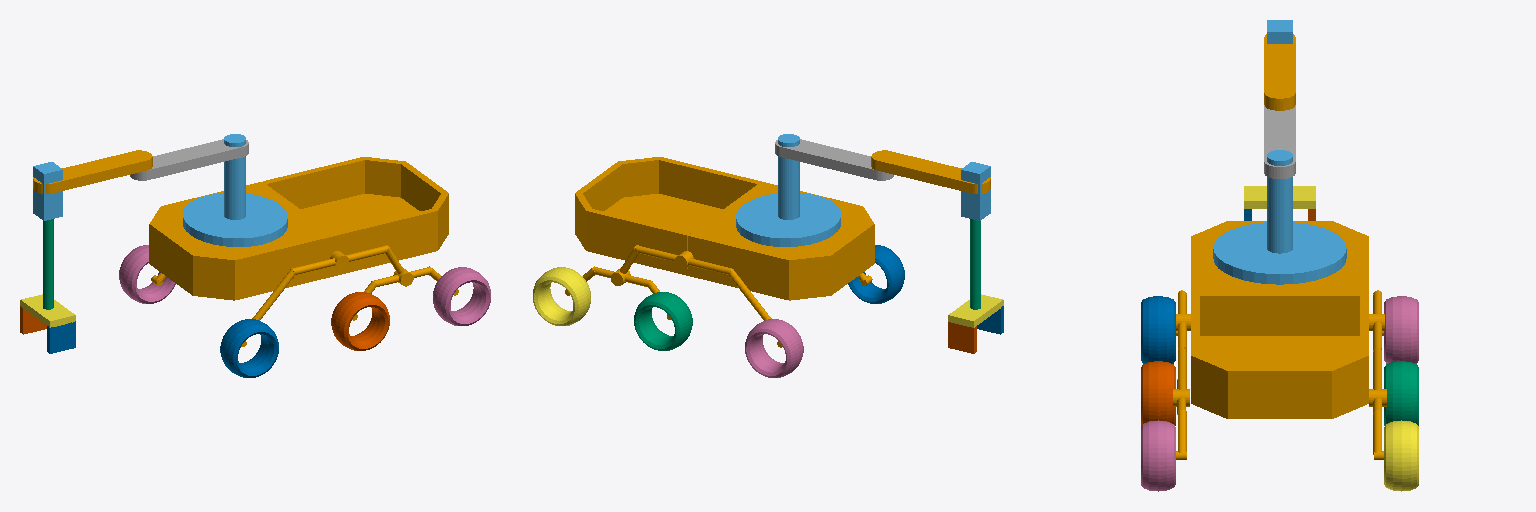
URDF robot description (robot_Practica2):
<robot name="robot_Practica2" version="1.0">
  <joint name="base_gripper_link_joint" type="fixed">
    <origin rpy="0.00000 0.00000 0.00000" xyz="-0.51563 0.00006 0.72658"/>
    <parent link="base_link"/>
    <child link="base_gripper_link"/>
  </joint>
  <joint name="arm_1_link_joint" type="revolute">
    <origin rpy="0 0 0" xyz="0 0 0.74424"/>
    <parent link="base_gripper_link"/>
    <child link="arm_1_link"/>
    <axis xyz="0 0 1"/>
    <limit lower="-3.14" upper="3.14" effort="50" velocity="2"/>
  </joint>
  <joint name="wheelA_3_link_joint" type="continuous">
    <limit effort="0.00000" velocity="0.00000"/>
    <origin rpy="1.57080 0.00000 0.00000" xyz="2.23201 1.32843 -0.83009"/>
    <parent link="base_link"/>
    <child link="wheelA_3_link"/>
    <axis xyz="0.00000 0.00000 1.00000"/>
  </joint>
  <joint name="wheelB_1_link_joint" type="continuous">
    <limit effort="0.00000" velocity="0.00000"/>
    <origin rpy="1.57080 0.00000 0.00000" xyz="-1.07987 -1.32831 -0.83009"/>
    <parent link="base_link"/>
    <child link="wheelB_1_link"/>
    <axis xyz="0.00000 0.00000 1.00000"/>
  </joint>
  <joint name="wheelB_2_link_joint" type="continuous">
    <limit effort="0.00000" velocity="0.00000"/>
    <origin rpy="1.57080 0.00000 0.00000" xyz="0.65003 -1.32832 -0.83009"/>
    <parent link="base_link"/>
    <child link="wheelB_2_link"/>
    <axis xyz="0.00000 0.00000 1.00000"/>
  </joint>
  <joint name="wheelB_3_link_joint" type="continuous">
    <limit effort="0.00000" velocity="0.00000"/>
    <origin rpy="1.57080 0.00000 0.00000" xyz="2.23201 -1.32832 -0.83009"/>
    <parent link="base_link"/>
    <child link="wheelB_3_link"/>
    <axis xyz="0.00000 0.00000 1.00000"/>
  </joint>
  <joint name="arm_2_link_joint" type="revolute">
    <origin rpy="0 0 0" xyz="-1.46 0 0.15"/>
    <parent link="arm_1_link"/>
    <child link="arm_2_link"/>
    <axis xyz="0 0 1"/>
    <limit lower="-2.356" upper="2.356" effort="50" velocity="2"/>
  </joint>
  <joint name="arm_3_link_joint" type="revolute">
    <origin rpy="0 0 0" xyz="-1.46 0 -0.11"/>
    <parent link="arm_2_link"/>
    <child link="arm_3_link"/>
    <axis xyz="0 0 1"/>
    <limit lower="-3.14" upper="3.14" effort="50" velocity="2"/>
  </joint>
  <joint name="arm_4_link_joint" type="prismatic">
    <origin rpy="0 0 0" xyz="0 0 -1.05"/>
    <parent link="arm_3_link"/>
    <child link="arm_4_link"/>
    <axis xyz="0 0 1"/>
    <limit lower="-0.38" upper="1.5" effort="50" velocity="1.0"/>
  </joint>
  <joint name="base_endEffector_link_joint" type="fixed">
    <origin rpy="0 0 0" xyz="0 0 -0.73"/>
    <parent link="arm_4_link"/>
    <child link="base_endEffector_link"/>
  </joint>
  <joint name="gripper_1_link_joint" type="prismatic">
    <origin rpy="-1.5708 0 0" xyz="0 -0.36 -0.24"/>
    <parent link="base_endEffector_link"/>
    <child link="gripper_1_link"/>
    <axis xyz="0 0 1"/>
    <limit lower="0.0" upper="0.25" effort="20" velocity="1.0"/>
  </joint>
  <joint name="gripper_2_link_joint" type="prismatic">
    <origin rpy="1.5708 0 0" xyz="0 0.36 -0.24"/>
    <parent link="base_endEffector_link"/>
    <child link="gripper_2_link"/>
    <axis xyz="0 0 1"/>
    <limit lower="0.0" upper="0.25" effort="20" velocity="1.0"/>
  </joint>
  <joint name="wheelA_1_link_joint" type="continuous">
    <limit effort="0.00000" velocity="0.00000"/>
    <origin rpy="1.57080 0.00000 0.00000" xyz="-1.07987 1.32843 -0.83009"/>
    <parent link="base_link"/>
    <child link="wheelA_1_link"/>
    <axis xyz="0.00000 0.00000 1.00000"/>
  </joint>
  <joint name="wheelA_2_link_joint" type="continuous">
    <limit effort="0.00000" velocity="0.00000"/>
    <origin rpy="1.57080 0.00000 0.00000" xyz="0.65003 1.32843 -0.83009"/>
    <parent link="base_link"/>
    <child link="wheelA_2_link"/>
    <axis xyz="0.00000 0.00000 1.00000"/>
  </joint>
  <link name="base_link">
    <!-- SUELO CAJA -->
    <collision name="floor_right">
      <origin xyz="1.35 0 -0.15" rpy="0 0 0"/>
      <geometry>
        <box size="1.9 1.9 0.05"/>
      </geometry>
    </collision>

    <!-- PARED DERECHA -->
    <collision name="wall_right">
      <origin xyz="2.30 0 0.10" rpy="0 0 0"/>
      <geometry>
        <box size="0.05 1.9 0.6"/>
      </geometry>
    </collision>

    <!-- PARED CENTRAL -->
    <collision name="wall_middle">
      <origin xyz="0.40 0 0.10" rpy="0 0 0"/>
      <geometry>
        <box size="0.05 1.9 0.6"/>
      </geometry>
    </collision>

    <!-- PARED TRASERA -->
    <collision name="wall_back">
      <origin xyz="1.35 -0.95 0.10" rpy="0 0 0"/>
      <geometry>
        <box size="1.9 0.05 0.6"/>
      </geometry>
    </collision>

    <!-- PARED FRONTAL -->
    <collision name="wall_front">
      <origin xyz="1.35 0.95 0.10" rpy="0 0 0"/>
      <geometry>
        <box size="1.9 0.05 0.6"/>
      </geometry>
    </collision>

    <!-- PLATAFORMA -->
    <collision name="platform_left">
      <origin xyz="-0.60 0 0.10" rpy="0 0 0"/>
      <geometry>
        <box size="2.4 2.2 0.05"/>
      </geometry>
    </collision>
    <inertial>
      <inertia ixx="41.28289" ixy="-0.00802" ixz="9.08471" iyy="106.15301" iyz="0.02896" izz="122.29248"/>
      <origin rpy="0.00000 0.00000 0.00000" xyz="-0.00000 -0.00000 -0.00000"/>
      <mass value="80.00000"/>
    </inertial>
    <visual name="base">
      <material name="None"/>
      <origin rpy="0.00000 0.00000 0.00000" xyz="0.00000 0.00000 -0.00000"/>
      <geometry>
        <mesh filename="../meshes/dae/Cube.005.dae" scale="2.00000 1.00000 0.05000"/>
      </geometry>
    </visual>
  </link>
  <link name="base_gripper_link">
    <collision name="base_gripper_collision">
      <origin rpy="0.00000 0.00000 0.00000" xyz="0.00000 -0.00000 0.00000"/>
      <geometry>
        <mesh filename="../meshes/dae/Cylinder.dae" scale="0.70000 0.75000 0.07647"/>
      </geometry>
    </collision>
    <inertial>
      <inertia ixx="3.73641" ixy="-0.00000" ixz="-0.00000" iyy="3.48927" iyz="0.00000" izz="3.61756"/>
      <origin rpy="0.00000 0.00000 0.00000" xyz="-0.00000 -0.00000 -0.17512"/>
      <mass value="20.00000"/>
    </inertial>
    <visual name="base_gripper">
      <material name="None"/>
      <origin rpy="0.00000 0.00000 0.00000" xyz="-0.00000 -0.00000 0.00000"/>
      <geometry>
        <mesh filename="../meshes/dae/Cylinder.dae" scale="0.70000 0.75000 0.07647"/>
      </geometry>
    </visual>
  </link>
  <link name="wheelA_2_link">
    <collision name="wheelA_2_collision">
      <origin rpy="0.00000 0.00000 0.00000" xyz="-0.00000 0.00000 -0.04000"/>
      <geometry>
        <mesh filename="../meshes/dae/Torus.004.dae" scale="0.32000 0.32000 0.80000"/>
      </geometry>
    </collision>
    <inertial>
      <inertia ixx="0.22705" ixy="0.00000" ixz="0.00000" iyy="0.37534" iyz="-0.00000" izz="0.22705"/>
      <origin rpy="0.00000 0.00000 0.00000" xyz="-0.00000 0.00000 -0.04000"/>
      <mass value="5.00000"/>
    </inertial>
    <visual name="wheelA_2">
      <material name="None"/>
      <origin rpy="0.00000 0.00000 0.00000" xyz="-0.00000 0.00000 -0.04000"/>
      <geometry>
        <mesh filename="../meshes/dae/Torus.004.dae" scale="0.32000 0.32000 0.80000"/>
      </geometry>
    </visual>
  </link>
  <link name="wheelA_3_link">
    <collision name="wheelA_3_collision">
      <origin rpy="0.00000 0.00000 0.00000" xyz="0.00000 0.00000 -0.04000"/>
      <geometry>
        <mesh filename="../meshes/dae/Torus.003.dae" scale="0.32000 0.32000 0.80000"/>
      </geometry>
    </collision>
    <inertial>
      <inertia ixx="0.22705" ixy="0.00000" ixz="0.00000" iyy="0.37534" iyz="-0.00000" izz="0.22705"/>
      <origin rpy="0.00000 0.00000 0.00000" xyz="0.00000 0.00000 -0.04000"/>
      <mass value="5.00000"/>
    </inertial>
    <visual name="wheelA_3">
      <material name="None"/>
      <origin rpy="0.00000 0.00000 0.00000" xyz="0.00000 0.00000 -0.04000"/>
      <geometry>
        <mesh filename="../meshes/dae/Torus.003.dae" scale="0.32000 0.32000 0.80000"/>
      </geometry>
    </visual>
  </link>
  <link name="wheelB_1_link">
    <collision name="wheelB_1_collision">
      <origin rpy="0.00000 0.00000 0.00000" xyz="0.00000 0.00000 0.04000"/>
      <geometry>
        <mesh filename="../meshes/dae/Torus.dae" scale="0.32000 0.32000 0.80000"/>
      </geometry>
    </collision>
    <visual name="wheelB_1">
      <material name="None"/>
      <origin rpy="0.00000 0.00000 0.00000" xyz="0.00000 -0.00000 0.04000"/>
      <geometry>
        <mesh filename="../meshes/dae/Torus.dae" scale="0.32000 0.32000 0.80000"/>
      </geometry>
    </visual>
    <inertial>
      <origin xyz="0 0 0" rpy="0 0 0"/>
      <mass value="2.0"/>
      <inertia ixx="0.05" ixy="0.0" ixz="0.0"
              iyy="0.05" iyz="0.0"
              izz="0.05"/>
    </inertial>
  </link>
  <link name="wheelB_2_link">
    <collision name="wheelB_2_collision">
      <origin rpy="0.00000 0.00000 0.00000" xyz="-0.00000 0.00000 0.04000"/>
      <geometry>
        <mesh filename="../meshes/dae/Torus.001.dae" scale="0.32000 0.32000 0.80000"/>
      </geometry>
    </collision>
    <inertial>
      <inertia ixx="0.22705" ixy="0.00000" ixz="0.00000" iyy="0.37534" iyz="-0.00000" izz="0.22705"/>
      <origin rpy="0.00000 0.00000 0.00000" xyz="-0.00000 -0.00000 0.04000"/>
      <mass value="5.00000"/>
    </inertial>
    <visual name="wheelB_2">
      <material name="None"/>
      <origin rpy="0.00000 0.00000 0.00000" xyz="-0.00000 -0.00000 0.04000"/>
      <geometry>
        <mesh filename="../meshes/dae/Torus.001.dae" scale="0.32000 0.32000 0.80000"/>
      </geometry>
    </visual>
  </link>
  <link name="wheelB_3_link">
    <collision name="wheelB_3_collision">
      <origin rpy="0.00000 0.00000 0.00000" xyz="0.00000 0.00000 0.04000"/>
      <geometry>
        <mesh filename="../meshes/dae/Torus.002.dae" scale="0.32000 0.32000 0.80000"/>
      </geometry>
    </collision>
    <inertial>
      <inertia ixx="0.22705" ixy="0.00000" ixz="0.00000" iyy="0.37534" iyz="-0.00000" izz="0.22705"/>
      <origin rpy="0.00000 0.00000 0.00000" xyz="0.00000 -0.00000 0.04000"/>
      <mass value="5.00000"/>
    </inertial>
    <visual name="wheelB_3">
      <material name="None"/>
      <origin rpy="0.00000 0.00000 0.00000" xyz="0.00000 -0.00000 0.04000"/>
      <geometry>
        <mesh filename="../meshes/dae/Torus.002.dae" scale="0.32000 0.32000 0.80000"/>
      </geometry>
    </visual>
  </link>
  <link name="arm_1_link">
    <collision name="arm_1_collision">
      <origin rpy="0.00000 0.00000 0.00000" xyz="-0.72000 0.00000 0.01000"/>
      <geometry>
        <mesh filename="../meshes/dae/Cylinder.002.dae" scale="0.15000 0.17500 0.07500"/>
      </geometry>
    </collision>
    <visual name="arm_1">
      <material name="None"/>
      <origin rpy="0.00000 0.00000 0.00000" xyz="-0.72000 0.00000 0.01000"/>
      <geometry>
        <mesh filename="../meshes/dae/Cylinder.002.dae" scale="0.15000 0.17500 0.07500"/>
      </geometry>
    </visual>
    <inertial>
      <origin xyz="0 0 0" rpy="0 0 0"/>
      <mass value="5.0"/>
      <inertia ixx="0.1" ixy="0.0" ixz="0.0"
                iyy="0.1" iyz="0.0"
                izz="0.1"/>
    </inertial>
  </link>
  <link name="arm_2_link">
    <collision name="arm_2_collision">
      <origin rpy="0.00000 0.00000 0.00000" xyz="-0.76000 0.00000 0.01000"/>
      <geometry>
        <mesh filename="../meshes/dae/Cylinder.004.dae" scale="0.15000 0.17500 0.07500"/>
      </geometry>
    </collision>
    <visual name="arm_2">
      <material name="None"/>
      <origin rpy="0.00000 0.00000 0.00000" xyz="-0.76000 0.00000 0.01000"/>
      <geometry>
        <mesh filename="../meshes/dae/Cylinder.004.dae" scale="0.15000 0.17500 0.07500"/>
      </geometry>
    </visual>
    <inertial>
      <origin xyz="0 0 0" rpy="0 0 0"/>
      <mass value="5.0"/>
      <inertia ixx="0.1" ixy="0.0" ixz="0.0"
              iyy="0.1" iyz="0.0"
              izz="0.1"/>
    </inertial>
  </link>
  <link name="arm_3_link">
    <collision name="arm_3_collision">
      <origin rpy="0.00000 0.00000 0.00000" xyz="0.00000 0.00000 0.00000"/>
      <geometry>
        <mesh filename="../meshes/dae/Cylinder.001.dae" scale="0.15000 0.15000 0.35000"/>
      </geometry>
    </collision>
    <inertial>
      <inertia ixx="0.16965" ixy="0.00000" ixz="0.00000" iyy="0.16965" iyz="0.00000" izz="0.05265"/>
      <origin rpy="0.00000 0.00000 0.00000" xyz="0.00000 0.00000 0.00000"/>
      <mass value="3.51000"/>
    </inertial>
    <visual name="arm_3">
      <material name="None"/>
      <origin rpy="0.00000 0.00000 0.00000" xyz="0.00000 0.00000 0.00000"/>
      <geometry>
        <box size="0.30000 0.30000 0.70000"/>
      </geometry>
    </visual>
  </link>
  <link name="arm_4_link">
    <collision name="arm_4_collision">
      <origin rpy="0.00000 0.00000 0.00000" xyz="0.00000 0.00000 0.00000"/>
      <geometry>
        <mesh filename="../meshes/dae/Cylinder.003.dae" scale="0.07500 0.07500 0.75000"/>
      </geometry>
    </collision>
    <inertial>
      <inertia ixx="0.18891" ixy="0.00000" ixz="0.00000" iyy="0.18891" iyz="0.00000" izz="0.00281"/>
      <origin rpy="0.00000 0.00000 0.00000" xyz="0.00000 0.00000 -0.00000"/>
      <mass value="1.00000"/>
    </inertial>
    <visual name="arm_4">
      <material name="None"/>
      <origin rpy="0.00000 0.00000 0.00000" xyz="0.00000 0.00000 -0.00000"/>
      <geometry>
        <cylinder radius="0.07500" length="1.50000"/>
      </geometry>
    </visual>
  </link>
  <link name="base_endEffector_link">
    <collision name="base_endEffector_collision">
      <origin rpy="0.00000 0.00000 0.00000" xyz="0.00000 0.00000 -0.00000"/>
      <geometry>
        <mesh filename="../meshes/dae/Cube.001.dae" scale="0.20000 0.40000 0.05000"/>
      </geometry>
    </collision>
    <inertial>
      <inertia ixx="0.05417" ixy="0.00000" ixz="0.00000" iyy="0.01417" iyz="0.00000" izz="0.06667"/>
      <origin rpy="0.00000 0.00000 0.00000" xyz="0.00000 0.00000 0.00000"/>
      <mass value="1.00000"/>
    </inertial>
    <visual name="base_endEffector">
      <material name="None"/>
      <origin rpy="0.00000 0.00000 0.00000" xyz="0.00000 0.00000 0.00000"/>
      <geometry>
        <box size="0.40000 0.80000 0.10000"/>
      </geometry>
    </visual>
  </link>
  <link name="gripper_1_link">
    <collision name="gripper_1_collision">
      <origin rpy="1.57080 0.00000 0.00000" xyz="0.00000 0.00000 -0.00000"/>
      <geometry>
        <mesh filename="../meshes/dae/Cube.008.dae" scale="0.20000 0.04000 0.20000"/>
      </geometry>
    </collision>
    <inertial>
      <inertia ixx="0.01387" ixy="0.00000" ixz="0.00000" iyy="0.02667" iyz="-0.00000" izz="0.01387"/>
      <origin rpy="0.00000 0.00000 0.00000" xyz="0.00000 0.00000 -0.00000"/>
      <mass value="1.00000"/>
    </inertial>
    <visual name="gripper_1">
      <material name="None"/>
      <origin rpy="1.57080 0.00000 0.00000" xyz="0.00000 0.00000 -0.00000"/>
      <geometry>
        <box size="0.40000 0.08000 0.40000"/>
      </geometry>
    </visual>
  </link>
  <link name="gripper_2_link">
    <collision name="gripper_2_collision">
      <origin rpy="-1.57080 0.00000 0.00000" xyz="0.00000 -0.00000 -0.00000"/>
      <geometry>
        <mesh filename="../meshes/dae/Cube.009.dae" scale="0.20000 0.04000 0.20000"/>
      </geometry>
    </collision>
    <inertial>
      <inertia ixx="0.01387" ixy="0.00000" ixz="0.00000" iyy="0.02667" iyz="0.00000" izz="0.01387"/>
      <origin rpy="0.00000 0.00000 0.00000" xyz="0.00000 -0.00000 -0.00000"/>
      <mass value="1.00000"/>
    </inertial>
    <visual name="gripper_2">
      <material name="None"/>
      <origin rpy="-1.57080 0.00000 0.00000" xyz="0.00000 -0.00000 -0.00000"/>
      <geometry>
        <box size="0.40000 0.08000 0.40000"/>
      </geometry>
    </visual>
  </link>
  <link name="wheelA_1_link">
    <collision name="wheelA_1_collision">
      <origin rpy="0.00000 0.00000 0.00000" xyz="0.00000 0.00000 -0.04000"/>
      <geometry>
        <mesh filename="../meshes/dae/Torus.005.dae" scale="0.32000 0.32000 0.80000"/>
      </geometry>
    </collision>
    <inertial>
      <inertia ixx="0.22705" ixy="0.00000" ixz="0.00000" iyy="0.37534" iyz="-0.00000" izz="0.22705"/>
      <origin rpy="0.00000 0.00000 0.00000" xyz="0.00000 0.00000 -0.04000"/>
      <mass value="5.00000"/>
    </inertial>
    <visual name="wheelA_1">
      <material name="None"/>
      <origin rpy="0.00000 0.00000 0.00000" xyz="0.00000 0.00000 -0.04000"/>
      <geometry>
        <mesh filename="../meshes/dae/Torus.005.dae" scale="0.32000 0.32000 0.80000"/>
      </geometry>
    </visual>
  </link>
</robot>

--- Facts derived from the render (not from the file) ---
Views: 3 orthographic renders of the robot side by side, from view 1: azimuth 30°, elevation 25°; view 2: azimuth 150°, elevation 25°; view 3: azimuth 270°, elevation 25°.
Model robot_Practica2 with 15 links and 14 joints (3 revolute, 6 continuous, 3 prismatic, 2 fixed), rooted at base_link, posed all joints at 0.
Visible links, largest first — view 1: base_link, base_gripper_link, arm_2_link, wheelB_2_link, wheelB_3_link, wheelB_1_link, arm_1_link, wheelA_1_link, arm_3_link, arm_4_link, base_endEffector_link, gripper_1_link; view 2: base_link, base_gripper_link, arm_2_link, wheelA_2_link, wheelA_3_link, wheelA_1_link, arm_1_link, wheelB_1_link, arm_3_link, arm_4_link, base_endEffector_link, gripper_2_link; view 3: base_link, base_gripper_link, wheelA_3_link, wheelB_3_link, wheelB_1_link, wheelA_1_link, arm_2_link, wheelA_2_link, wheelB_2_link, arm_1_link, base_endEffector_link, arm_3_link.
Boxes of the visible links, box(x1,y1,x2,y2) form: base_link: box(149, 157, 458, 346); base_gripper_link: box(183, 134, 287, 246); arm_2_link: box(33, 150, 152, 193); wheelB_2_link: box(331, 292, 389, 350); wheelB_3_link: box(433, 267, 490, 325); wheelB_1_link: box(220, 319, 278, 377); arm_1_link: box(130, 139, 248, 180); wheelA_1_link: box(119, 245, 175, 303); arm_3_link: box(33, 162, 62, 220); arm_4_link: box(43, 219, 53, 309); base_endEffector_link: box(20, 294, 75, 327); gripper_1_link: box(47, 321, 75, 353); base_link: box(565, 157, 874, 347); base_gripper_link: box(736, 134, 840, 246); arm_2_link: box(871, 150, 990, 193); wheelA_2_link: box(634, 292, 692, 350); wheelA_3_link: box(533, 267, 590, 325); wheelA_1_link: box(745, 319, 803, 377); arm_1_link: box(775, 139, 893, 180); wheelB_1_link: box(848, 245, 904, 303); arm_3_link: box(961, 162, 990, 220); arm_4_link: box(970, 219, 980, 309); base_endEffector_link: box(948, 294, 1003, 327); gripper_2_link: box(948, 322, 976, 353); base_link: box(1173, 221, 1386, 459); base_gripper_link: box(1213, 150, 1346, 284); wheelA_3_link: box(1384, 420, 1418, 491); wheelB_3_link: box(1141, 420, 1175, 491); wheelB_1_link: box(1141, 296, 1175, 363); wheelA_1_link: box(1384, 296, 1418, 363); arm_2_link: box(1264, 34, 1295, 110); wheelA_2_link: box(1384, 361, 1418, 425); wheelB_2_link: box(1141, 361, 1175, 425); arm_1_link: box(1264, 105, 1295, 178); base_endEffector_link: box(1244, 186, 1315, 208); arm_3_link: box(1267, 20, 1292, 43).
Bounding box of the posed robot: 6.27 × 3.14 × 3.09 m (x, y, z).
10 mesh visuals loaded from 10 distinct referenced files (10 Collada DAE).
